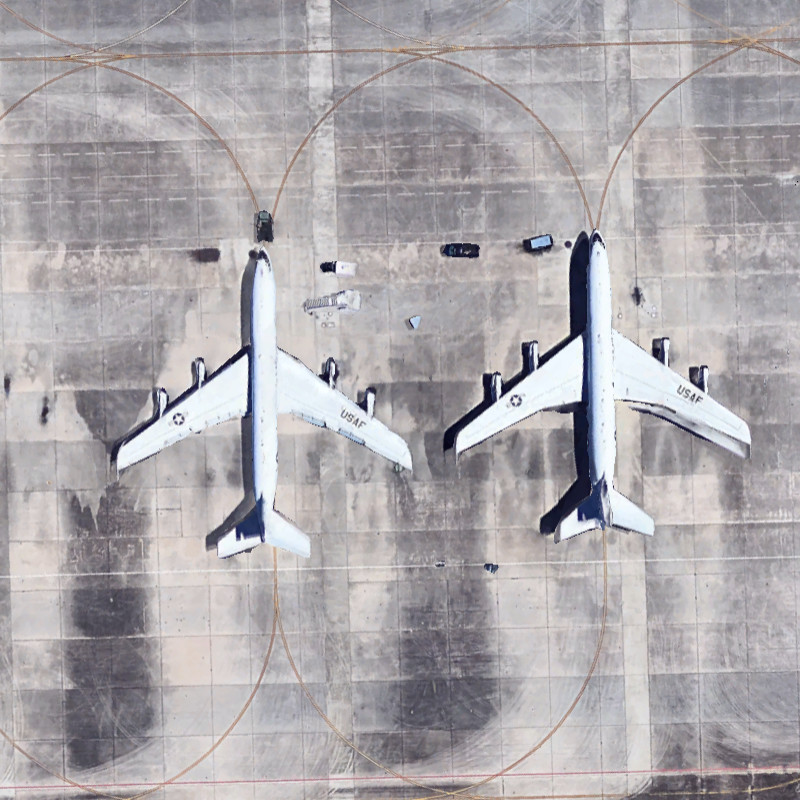A11: (109, 222, 426, 578), (451, 213, 765, 565)
